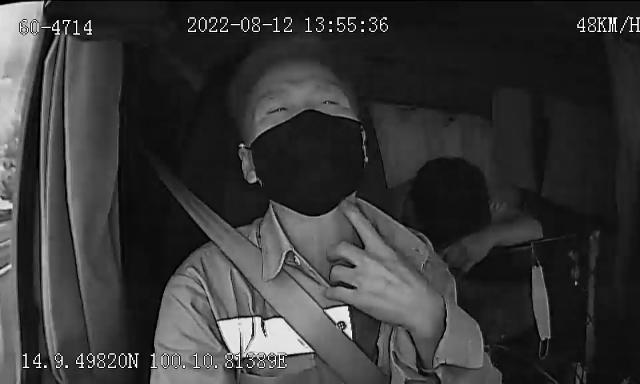SafeDriving: (259, 95, 296, 121), (310, 90, 347, 112)
Seatbelt: (158, 168, 386, 384)
